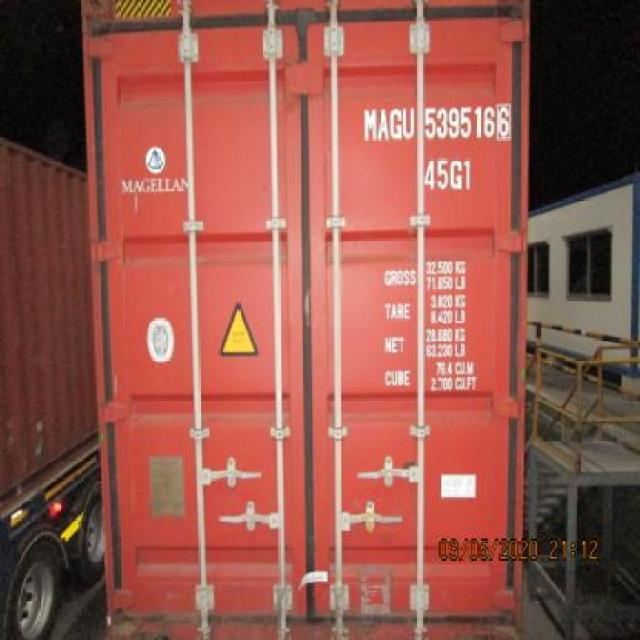ISO: (424, 158, 474, 188)
container_number: (362, 104, 512, 138)
